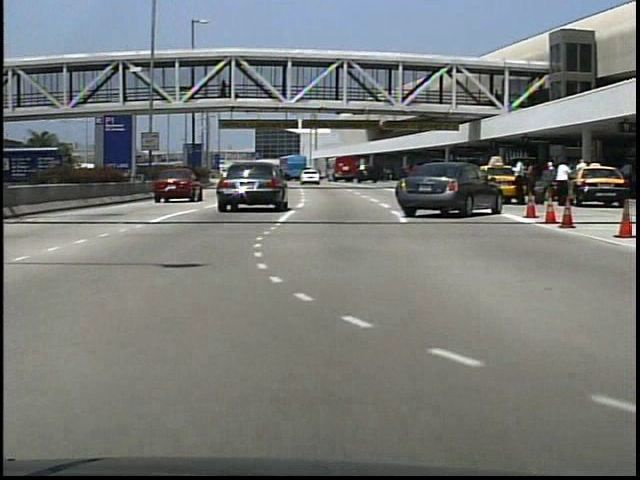person: (550, 158, 574, 208), (510, 157, 529, 209), (543, 159, 561, 204), (219, 80, 230, 103)
